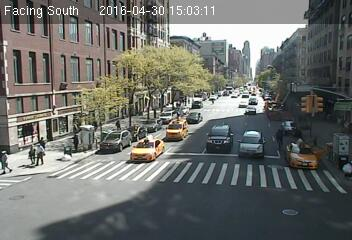neg: (48, 40, 76, 78), (300, 35, 325, 68), (313, 133, 337, 165), (216, 58, 240, 90), (263, 124, 284, 151), (304, 78, 323, 103), (286, 87, 303, 110), (168, 68, 185, 90), (111, 56, 128, 78), (197, 88, 210, 105), (267, 97, 276, 109)
pos: (68, 129, 86, 154), (18, 142, 35, 164), (33, 143, 49, 164), (112, 116, 126, 135), (90, 116, 102, 132)
